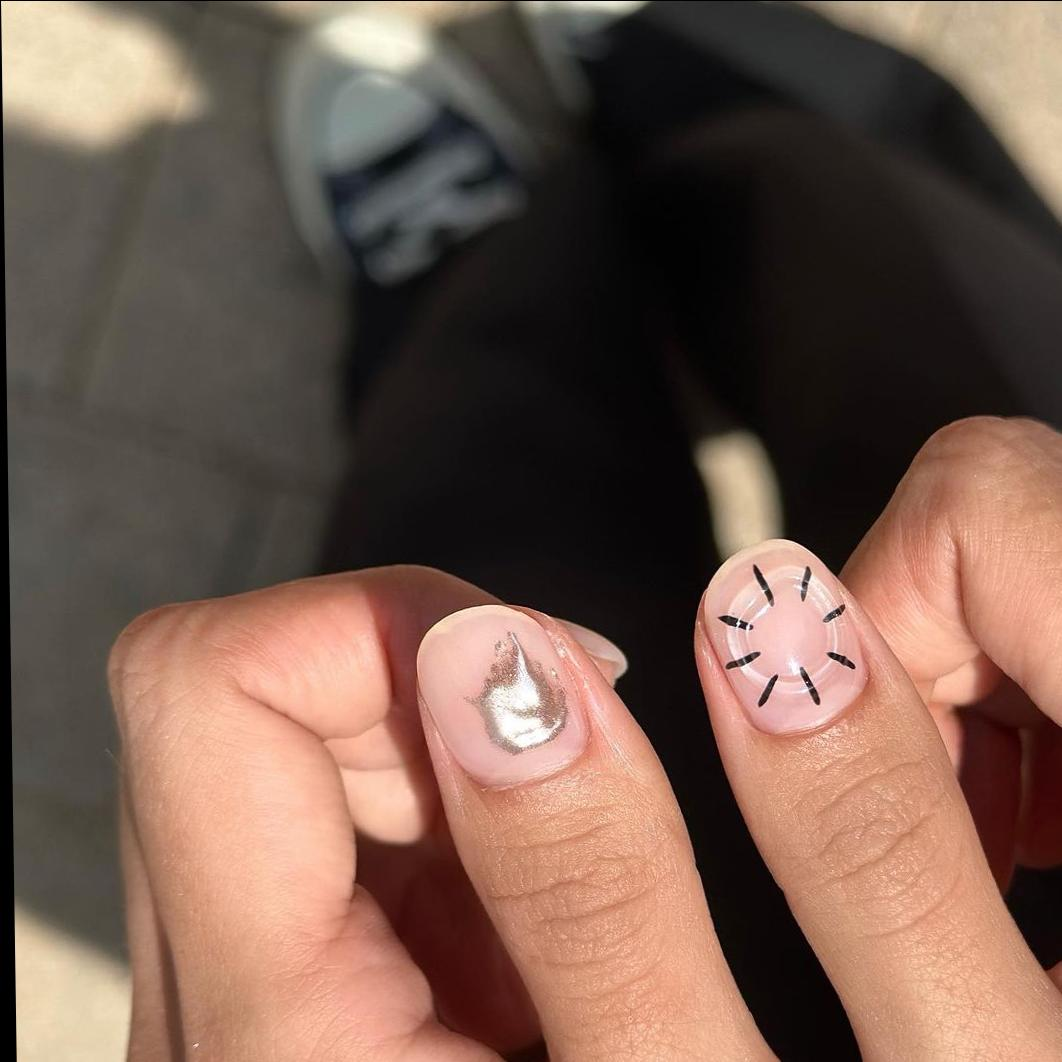nail: (693, 538, 871, 739), (412, 603, 593, 792)
